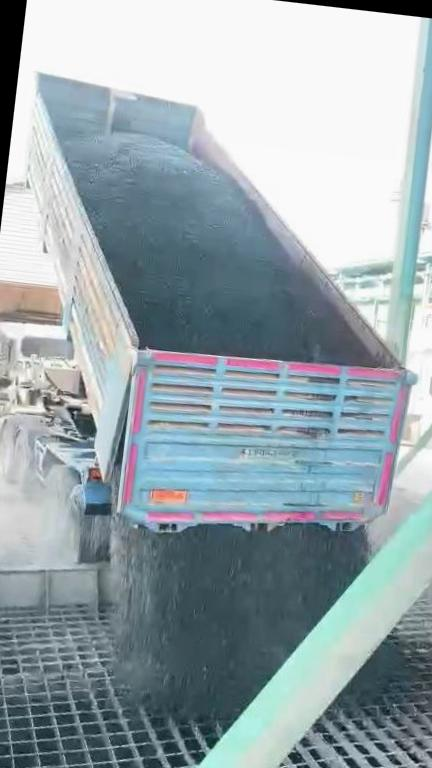gravel: (66, 133, 356, 364), (113, 518, 369, 717), (354, 646, 402, 692)
